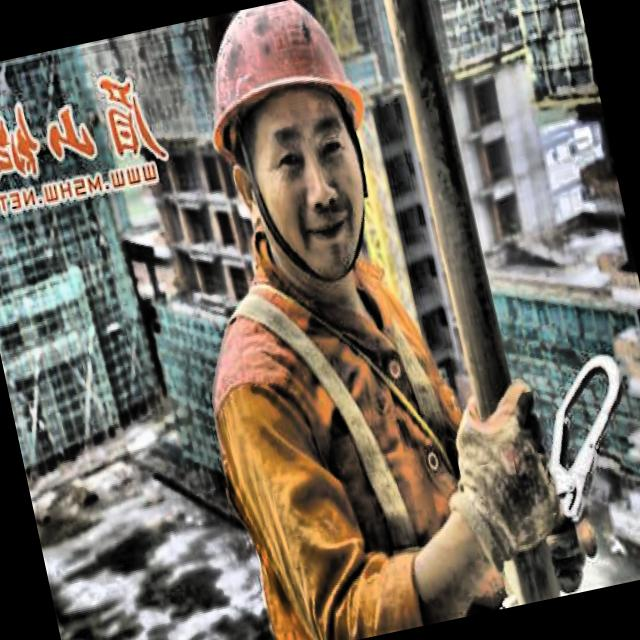helmet: (173, 0, 420, 315)
